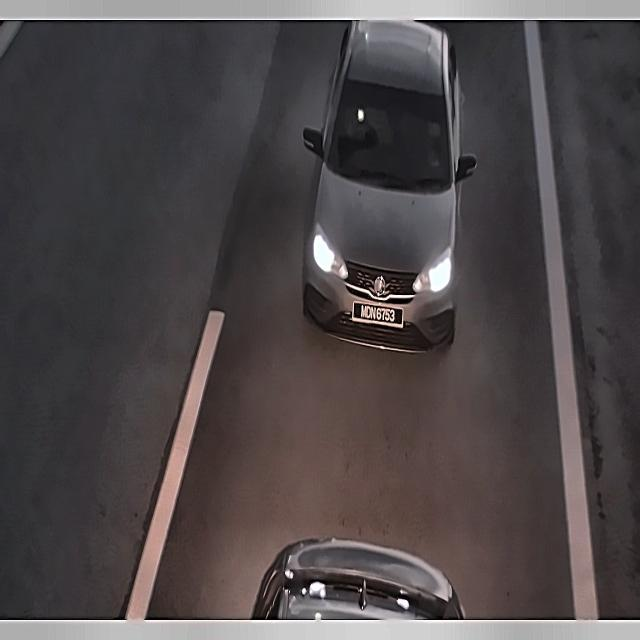car: (356, 298, 400, 332)
